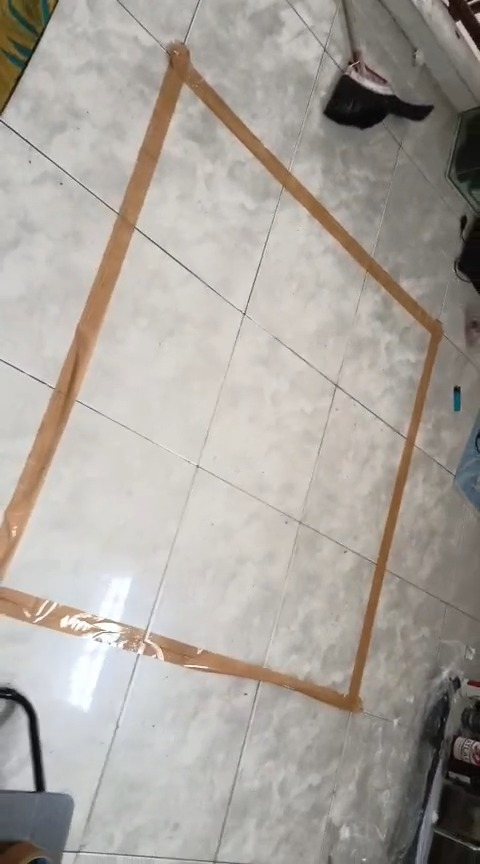floor marking: (0, 43, 442, 711)
